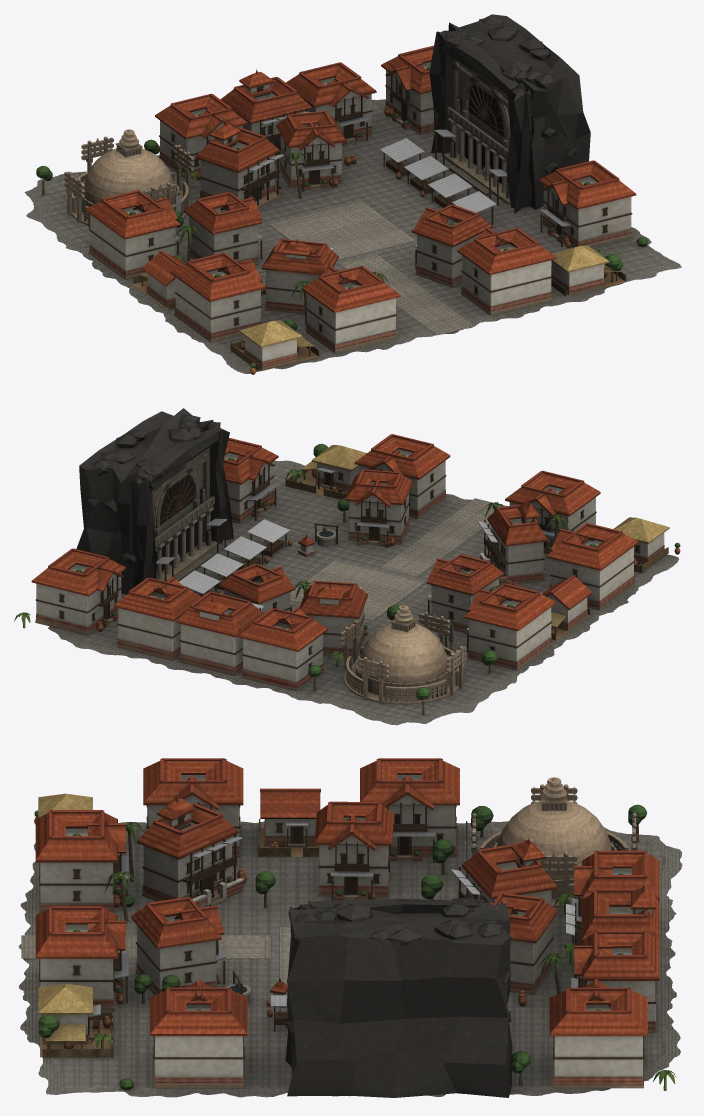
File: classical-town-medium-a-indic.glb
3 views of the same model, one above another, from view 1: azimuth 30°, elevation 25°; view 2: azimuth 150°, elevation 25°; view 3: azimuth 270°, elevation 25° (orthographic). The views are drawn at different scales.
Parts seen in each view (by area): view 1: LOD0; view 2: LOD0; view 3: LOD0.
Part boxes in pixels (x1,y1,x2,y2): LOD0: (24,14,681,374); LOD0: (14,408,680,725); LOD0: (18,758,682,1097).
Size of what is drawn, in the model's own units: 6.03 by 1.62 by 6.09.
Materials: 3 (3 with a texture image).
